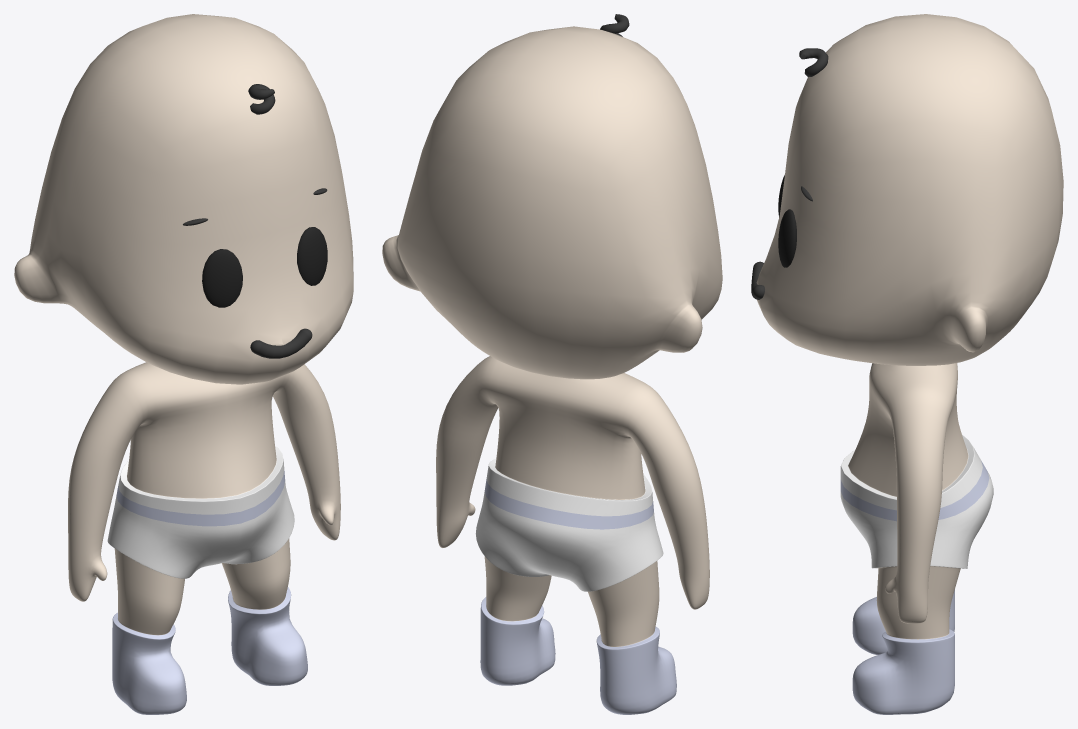
The model's file is SM_Baby1.fbx.
The picture shows the model from 3 angles, left to right: view 1: azimuth 30°, elevation 25°; view 2: azimuth 150°, elevation 25°; view 3: azimuth 270°, elevation 25°; orthographic projection.
Visible parts, largest first — view 1: Baby2, Eye_R, Eye_L, Mouth, Hair1; view 2: Baby2; view 3: Baby2, Eye_L, Hair1.
Boxes of the visible parts, left/top/right/bottom form: Baby2: left=14, top=14, right=353, bottom=714; Eye_R: left=202, top=249, right=242, bottom=307; Eye_L: left=297, top=227, right=327, bottom=285; Mouth: left=250, top=328, right=312, bottom=358; Hair1: left=248, top=84, right=275, bottom=114; Baby2: left=382, top=26, right=722, bottom=714; Baby2: left=756, top=14, right=1063, bottom=714; Eye_L: left=778, top=209, right=796, bottom=267; Hair1: left=799, top=48, right=828, bottom=76.
Bounding box in the file's own units: 26.03 × 50.97 × 22.35.
